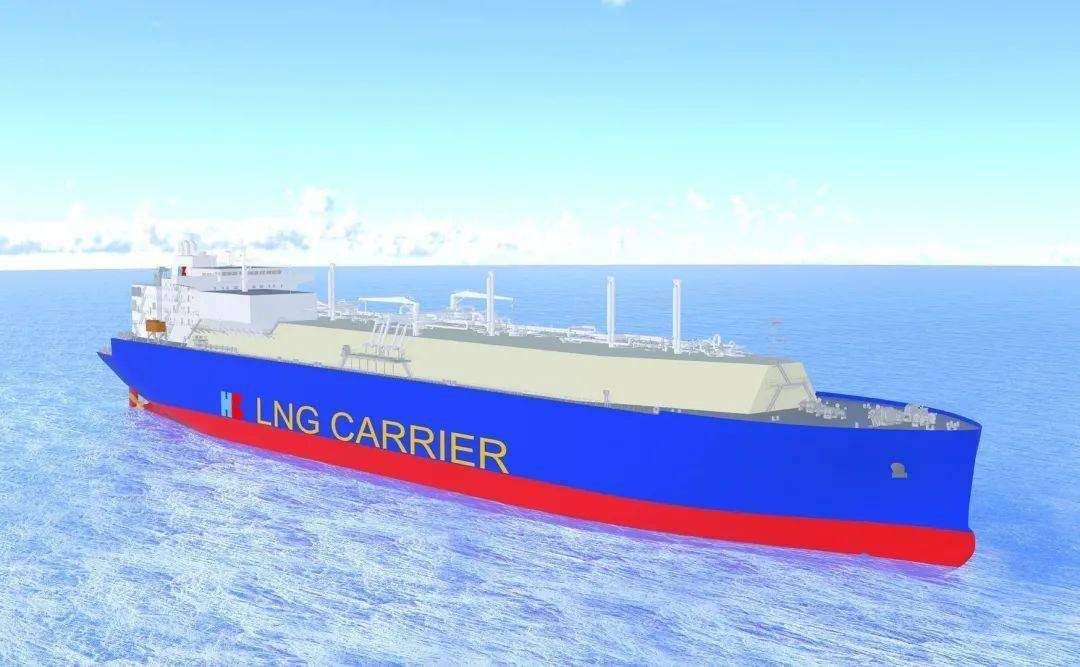Cargoship: (104, 233, 993, 567)
